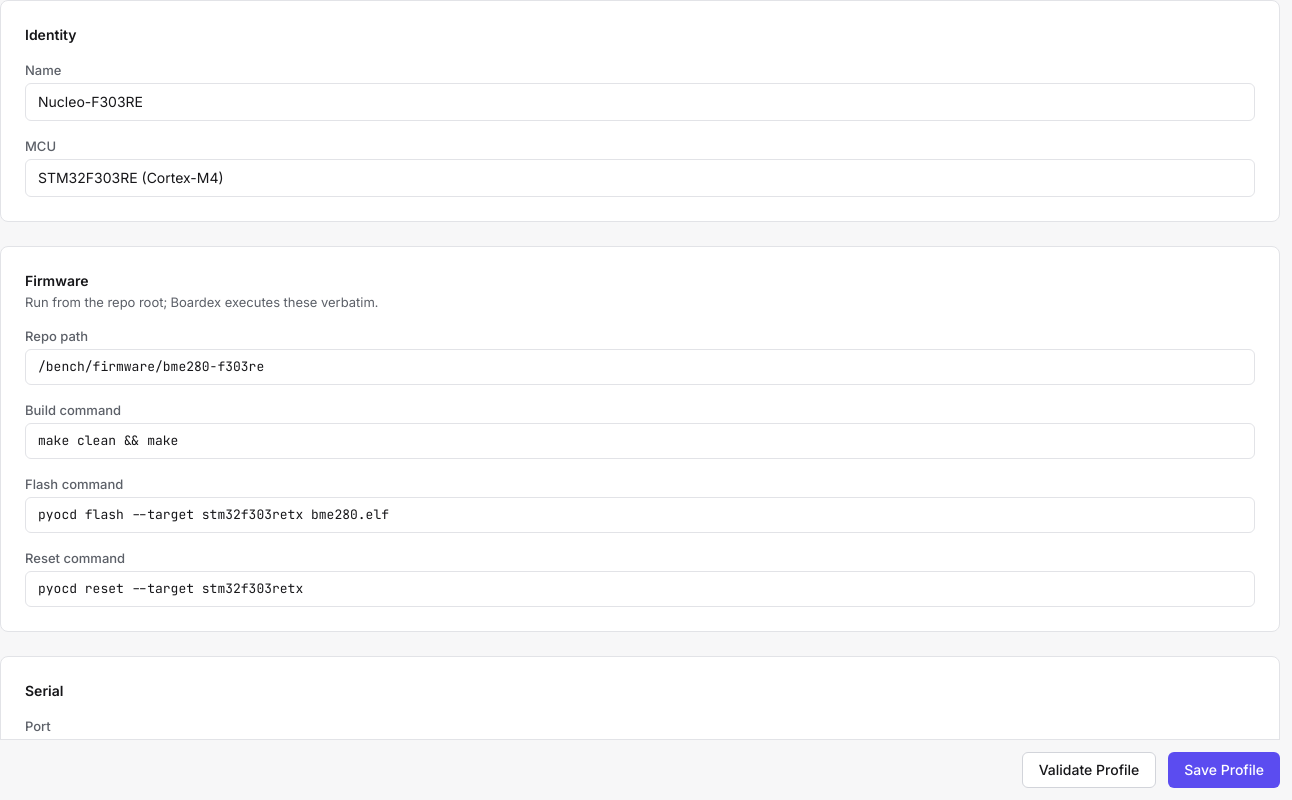
it: Validate Profile against the bench (§7.5) › marks a device-id reference found, with its stable id
Click the button "Validate Profile" at (1089, 770), box [1022,752,1156,788]
(page scrolled)
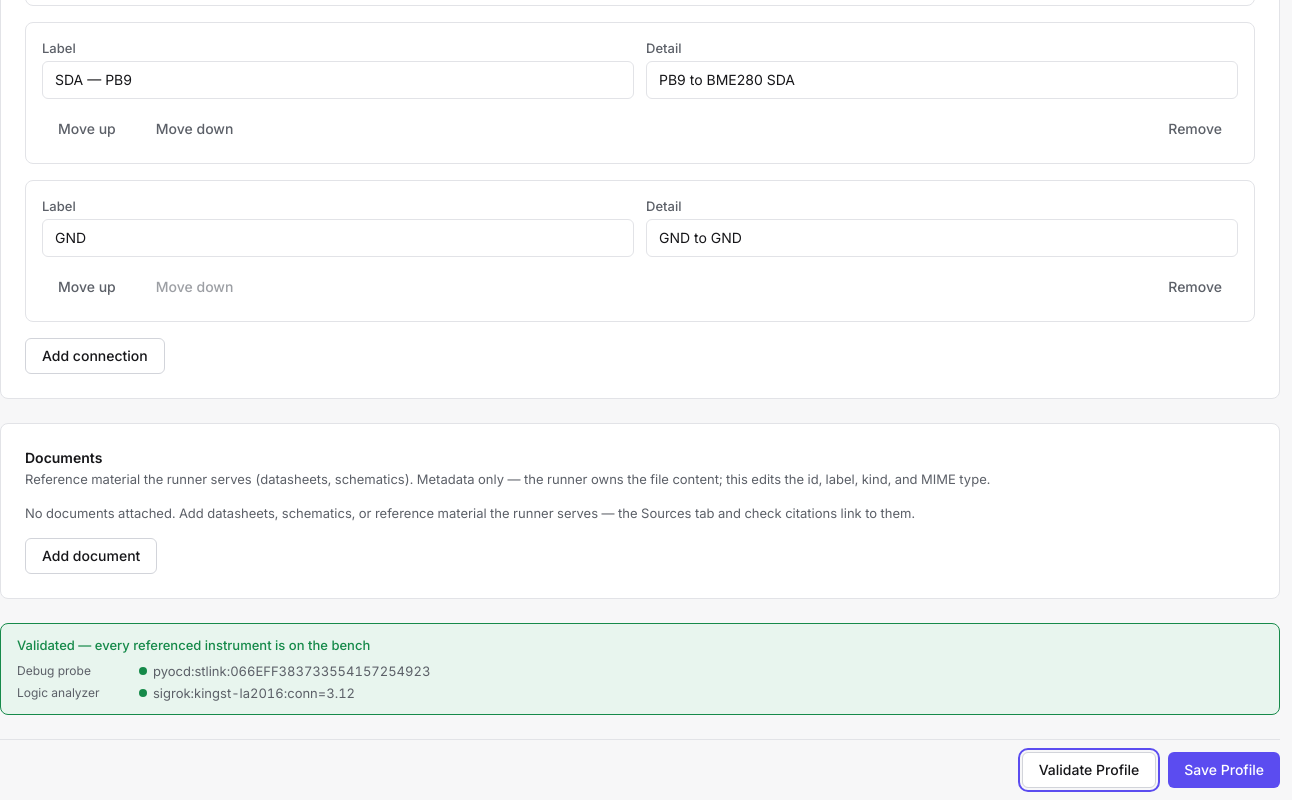
Check: the message named "Bench validation" shows "Validated — every referenced instrument is on the bench", box [17,637,370,653]
Check: the text "pyocd:stlink:066EFF383733554157254923" is shown, box [153,662,430,680]
Check: the text "sigrok:kingst-la2016:conn=3.12" is shown, box [153,684,355,702]
